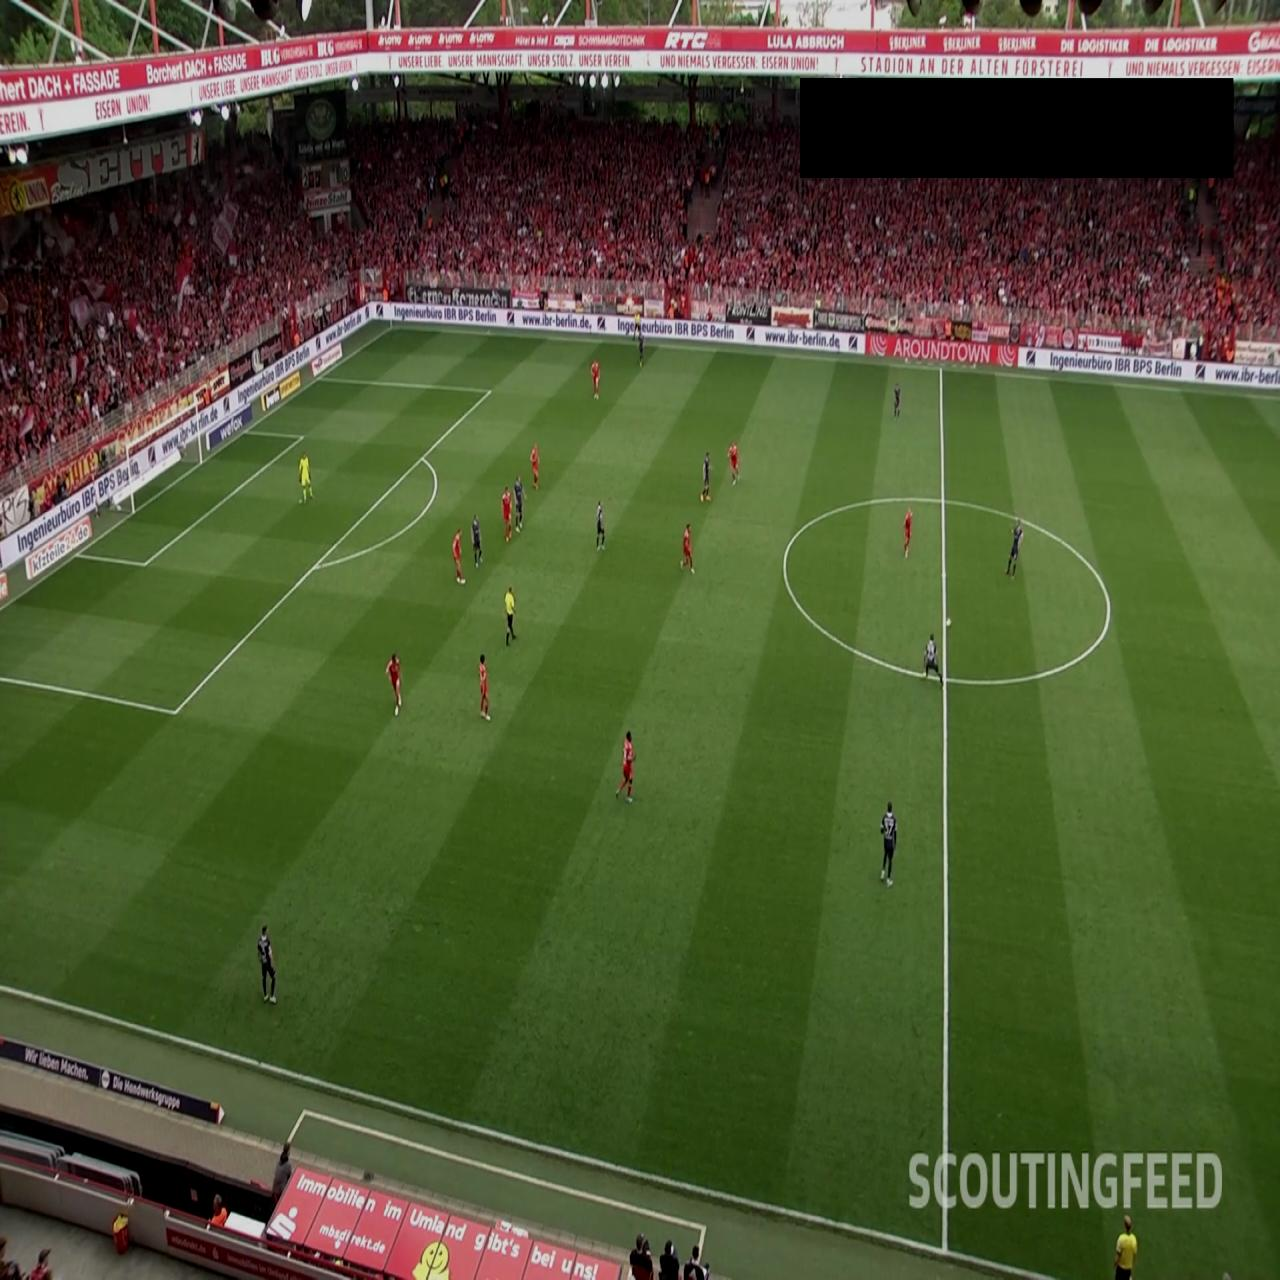ball: (946, 616, 952, 628)
goalkeeper: (298, 450, 314, 504)
player: (879, 799, 898, 885), (257, 923, 277, 1003), (616, 729, 636, 802), (1005, 519, 1024, 577), (385, 652, 402, 716), (923, 632, 943, 682), (478, 653, 491, 721), (680, 522, 695, 574), (471, 513, 483, 569), (453, 528, 465, 584), (514, 473, 525, 531), (502, 486, 513, 542), (701, 452, 712, 502), (902, 507, 912, 558), (596, 500, 606, 550), (728, 442, 739, 486), (530, 443, 539, 491), (590, 359, 600, 400), (636, 331, 644, 367), (893, 383, 901, 418)
referee: (1114, 1213, 1138, 1280), (504, 584, 517, 645), (632, 307, 642, 342)
